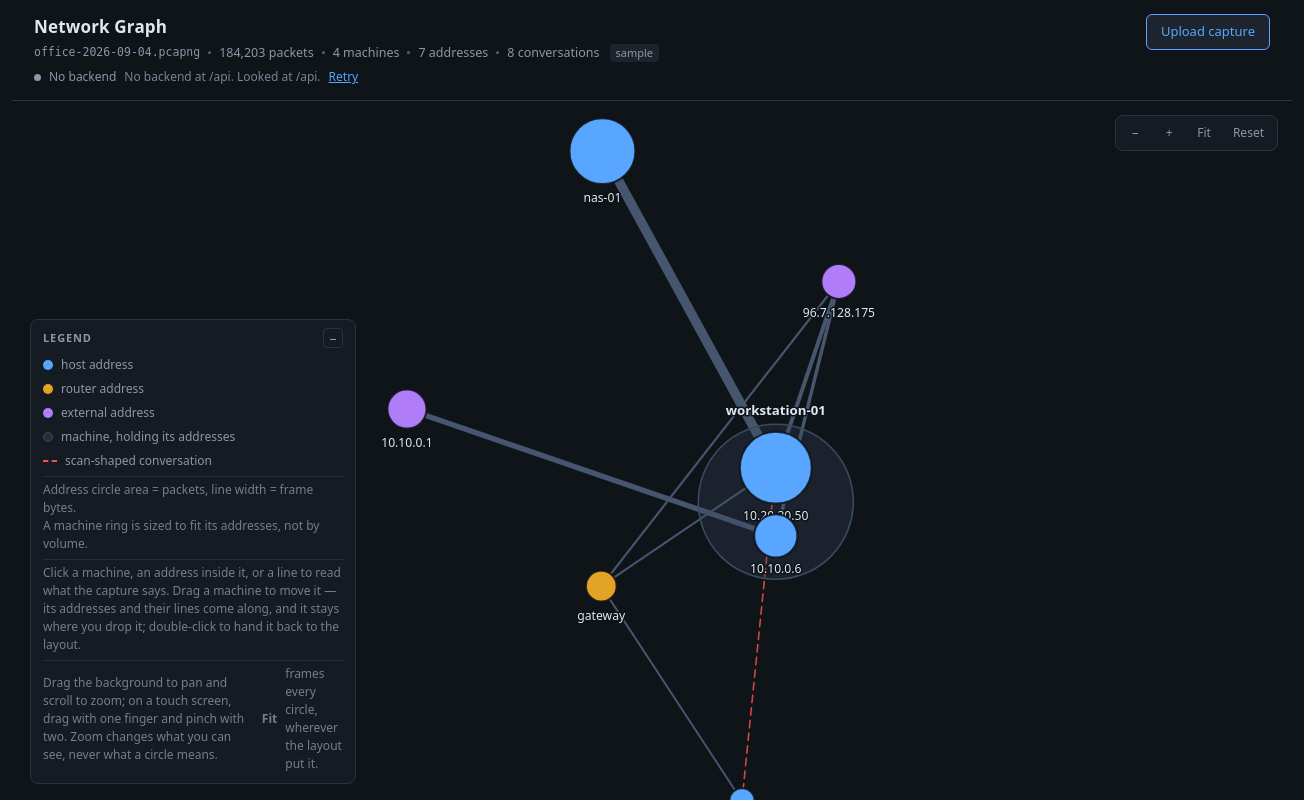
with no backend at all › lets the check be retried
Click the button "Retry": click(343, 77) top-left (329, 68), bottom-right (358, 86)
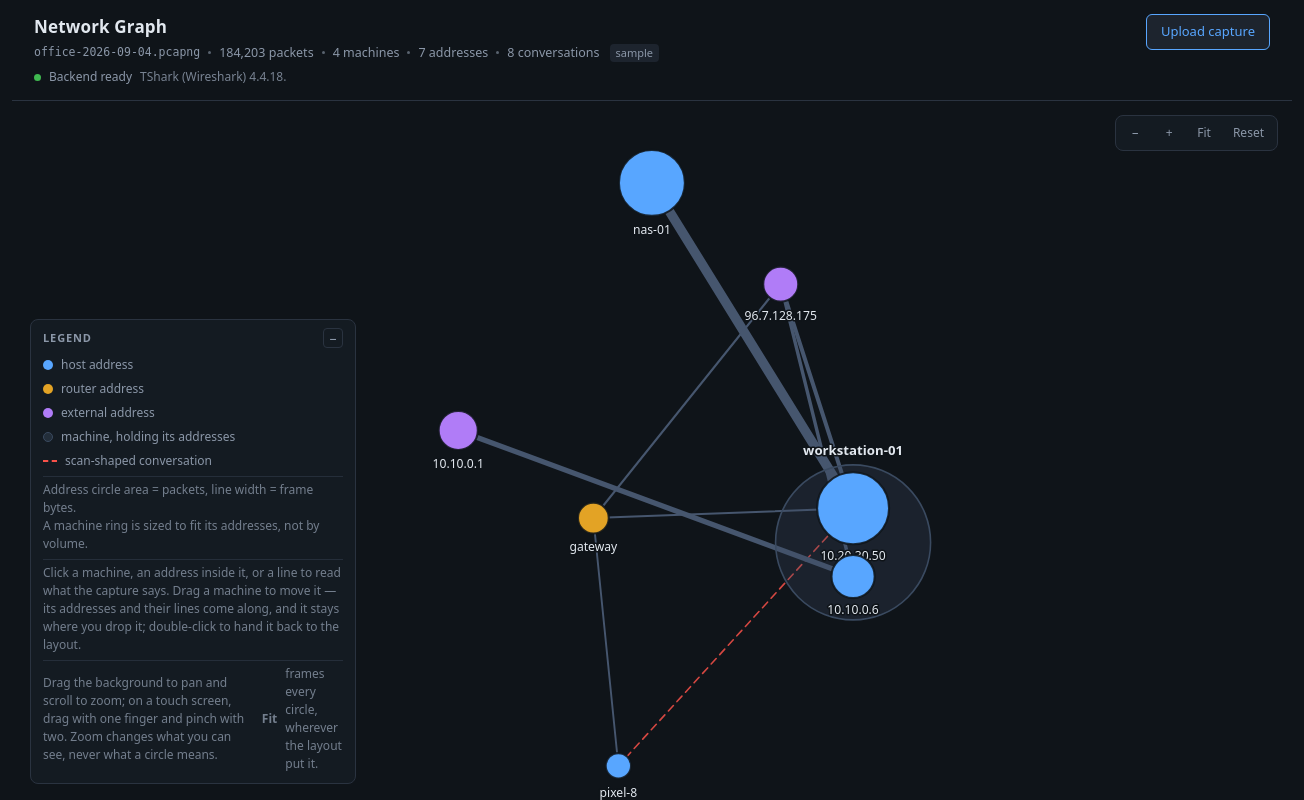
Now the text "Backend ready" is shown, box top-left (49, 68), bottom-right (132, 85)
